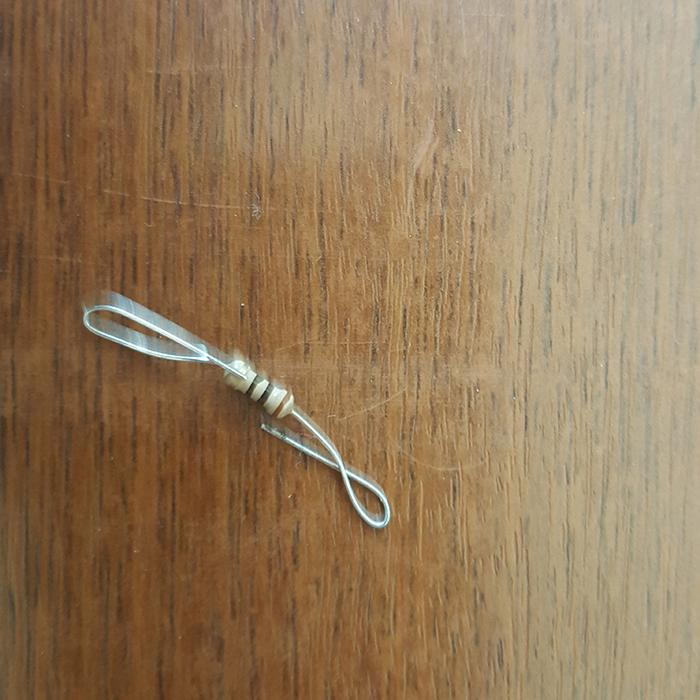resistor: (222, 357, 294, 419)
